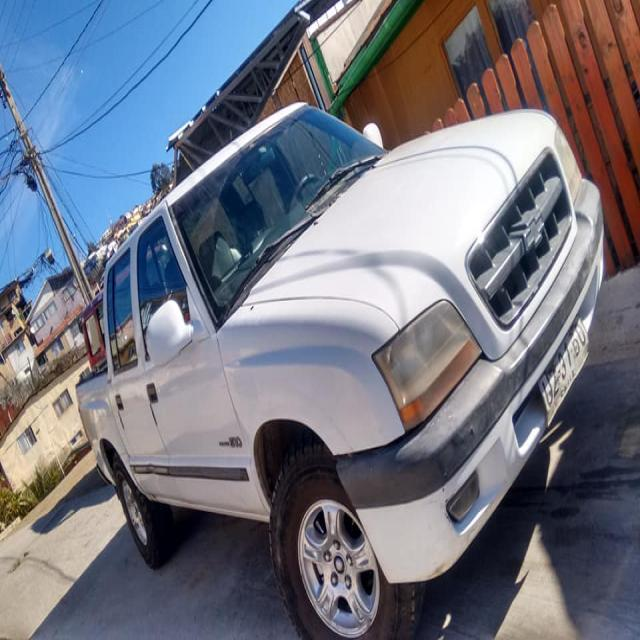patente: (538, 315, 590, 427)
